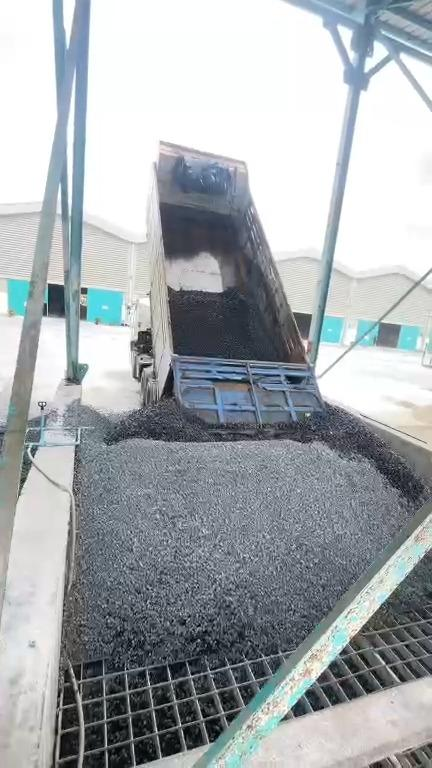gravel: (63, 378, 431, 665), (169, 288, 288, 360), (388, 554, 431, 612), (18, 444, 34, 500), (44, 409, 62, 426), (0, 421, 7, 456), (25, 430, 41, 443), (28, 415, 41, 427), (31, 445, 40, 459)
sand: (396, 400, 431, 443)
